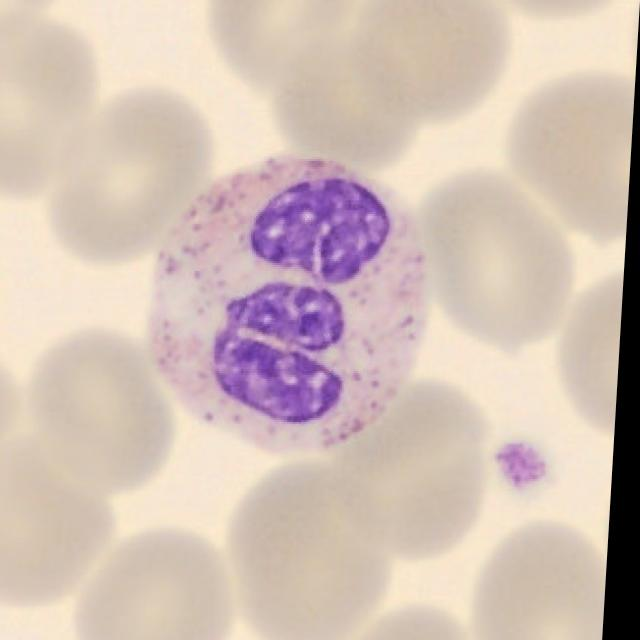Neutrofilo segmentado: (149, 155, 432, 459)
